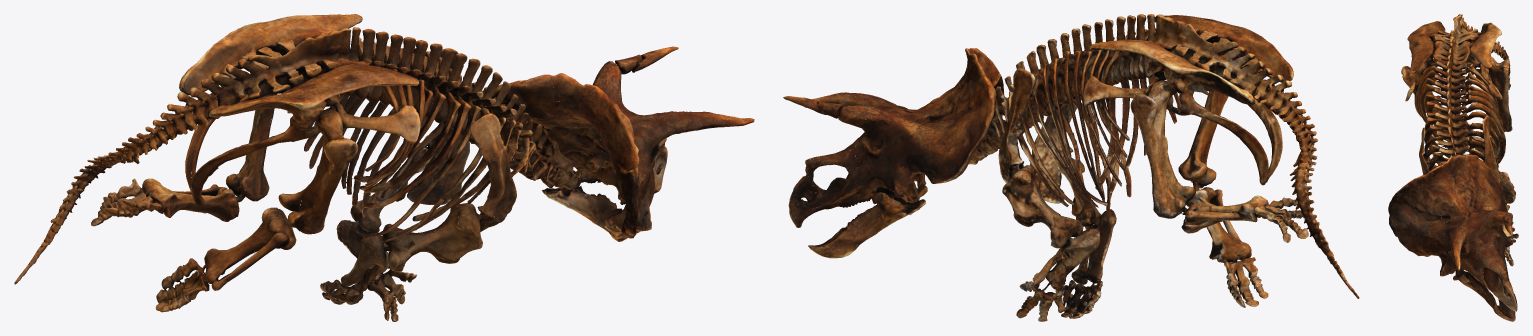
File: Skeleton_Triceratops_Real.glb
3 views of the same model, side by side, from view 1: azimuth 30°, elevation 25°; view 2: azimuth 150°, elevation 25°; view 3: azimuth 270°, elevation 25° (orthographic). The views are drawn at different scales.
Parts seen in each view (by area): view 1: Skeleton_Triceratops_Real; view 2: Skeleton_Triceratops_Real; view 3: Skeleton_Triceratops_Real.
Boxes of the visible parts, box(x1,y1,x2,y2) form: Skeleton_Triceratops_Real: box(14, 14, 754, 321); Skeleton_Triceratops_Real: box(783, 14, 1359, 321); Skeleton_Triceratops_Real: box(1388, 14, 1518, 321).
Bounding box in the file's own units: 1.2 × 0.571 × 0.3385.
Materials: 1 (1 with a texture image).
